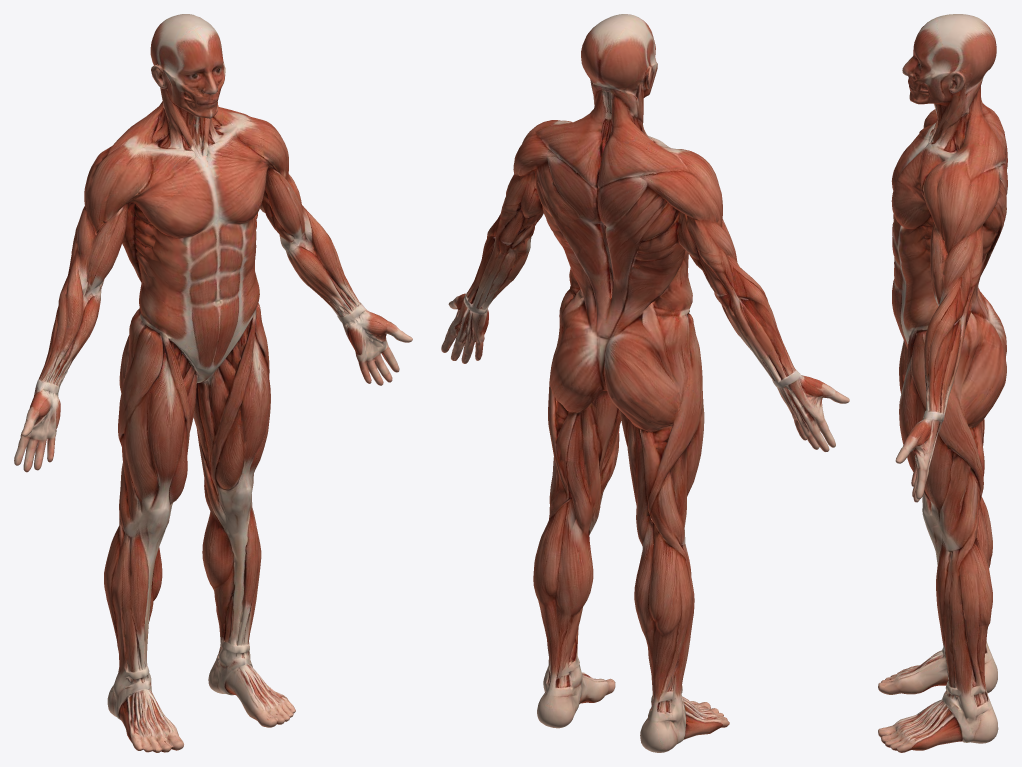
Rendered from muscles-low.glb.
The picture shows the model from 3 angles, left to right: view 1: azimuth 30°, elevation 25°; view 2: azimuth 150°, elevation 25°; view 3: azimuth 270°, elevation 25°; orthographic projection. The views are drawn at different scales.
Parts seen in each view (by area): view 1: human-muscles; view 2: human-muscles; view 3: human-muscles.
Part boxes in pixels (<box>): human-muscles: <box>14,14,412,752</box>; human-muscles: <box>441,14,849,752</box>; human-muscles: <box>878,14,1007,752</box>.
Size of the model in its own units: 1.06 by 1.8 by 0.3025.
1 material, 1 textured.
